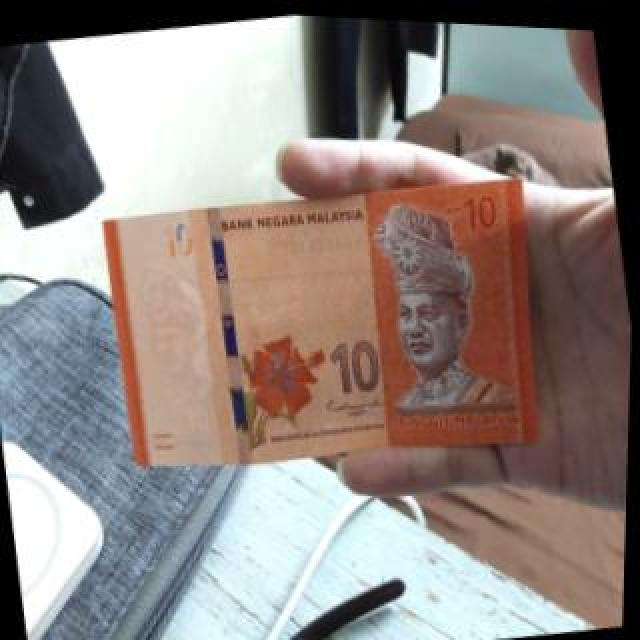10 Ringgit: (94, 148, 562, 495)
